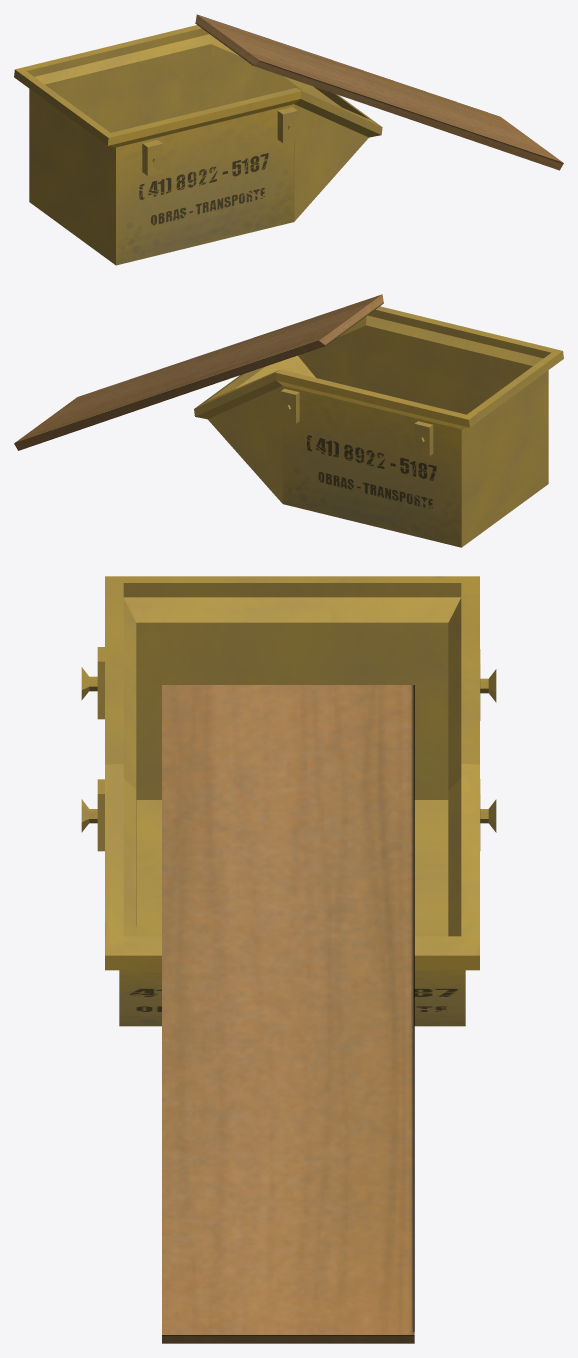
Rendered from Cacamba_rampa.fbx.
3 views of the same model, one above another, from view 1: azimuth 30°, elevation 25°; view 2: azimuth 150°, elevation 25°; view 3: azimuth 270°, elevation 25° (orthographic). The views are drawn at different scales.
Parts seen in each view (by area): view 1: Cube.003, Cube.000; view 2: Cube.003, Cube.000; view 3: Cube.000, Cube.003.
Boxes of the visible parts, x1=… form: Cube.003: x1=14, y1=25, x2=382, y2=265; Cube.000: x1=195, y1=14, x2=563, y2=170; Cube.003: x1=194, y1=306, x2=563, y2=547; Cube.000: x1=14, y1=294, x2=383, y2=450; Cube.000: x1=162, y1=685, x2=414, y2=1343; Cube.003: x1=81, y1=576, x2=496, y2=1026.
Size of the model in its own units: 445 by 165 by 170.
